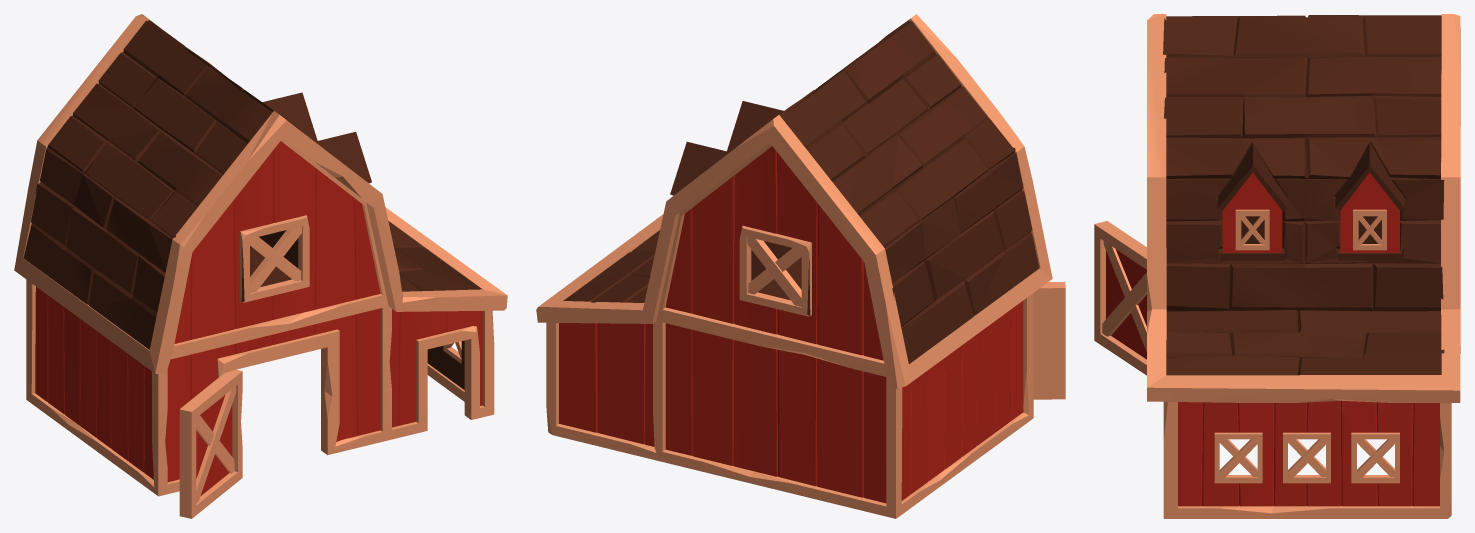
Rendered from Stable_2.fbx.
3 renders of one model, left to right at view 1: azimuth 30°, elevation 25°; view 2: azimuth 150°, elevation 25°; view 3: azimuth 270°, elevation 25°, orthographic. The views are drawn at different scales.
Visible parts, largest first — view 1: Stable_2; view 2: Stable_2; view 3: Stable_2.
Part boxes in pixels (x1=…): Stable_2: x1=14, y1=14, x2=507, y2=518; Stable_2: x1=536, y1=14, x2=1065, y2=518; Stable_2: x1=1094, y1=14, x2=1460, y2=518.
Size of the model in its own units: 286 by 276 by 236.
